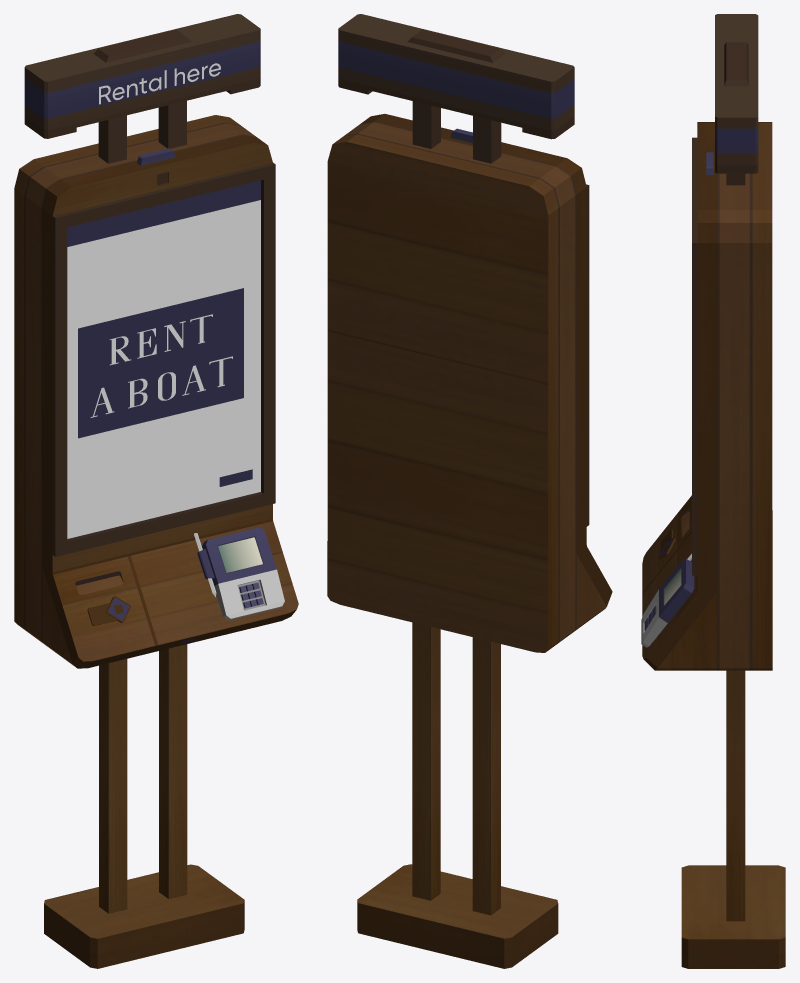
The model's file is VE_Kiosk_014.FBX.
3 renders of one model, left to right at view 1: azimuth 30°, elevation 25°; view 2: azimuth 150°, elevation 25°; view 3: azimuth 270°, elevation 25°, orthographic. The views are drawn at different scales.
Parts seen in each view (by area): view 1: VE_Kiosk_014, Unlit; view 2: VE_Kiosk_014, Unlit; view 3: VE_Kiosk_014, Unlit.
Part boxes in pixels (left/top/right/bottom): VE_Kiosk_014: left=14, top=14, right=298, bottom=968; Unlit: left=24, top=40, right=262, bottom=643; VE_Kiosk_014: left=327, top=14, right=612, bottom=968; Unlit: left=338, top=40, right=574, bottom=143; VE_Kiosk_014: left=641, top=14, right=785, bottom=968; Unlit: left=664, top=128, right=758, bottom=605.
Size of the model in its own units: 48.63 by 187 by 28.09.
